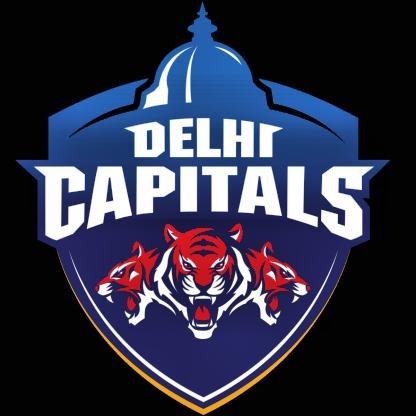Delhi Capitals: (8, 3, 388, 413)
